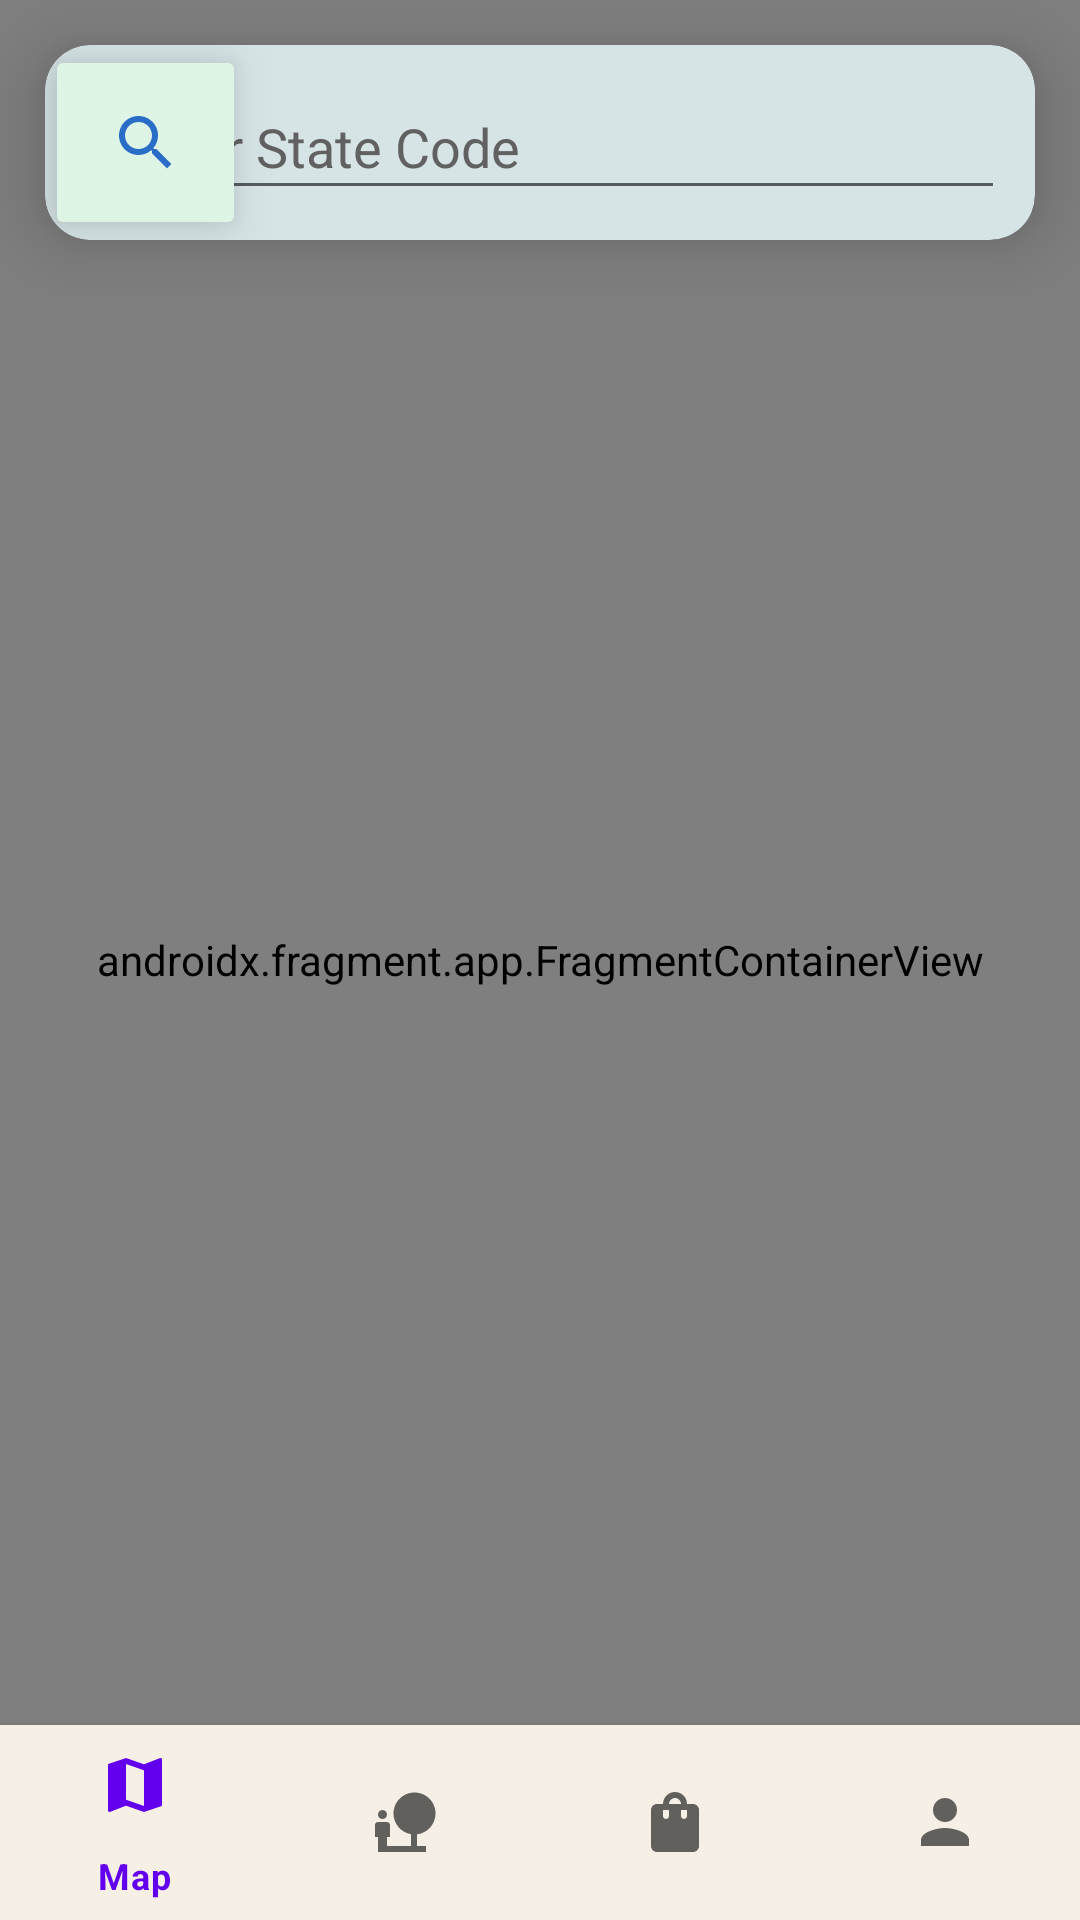

Where to tap for icons on this 1080 × 1920 app screen, as [x,y]:
search: [145,142]
